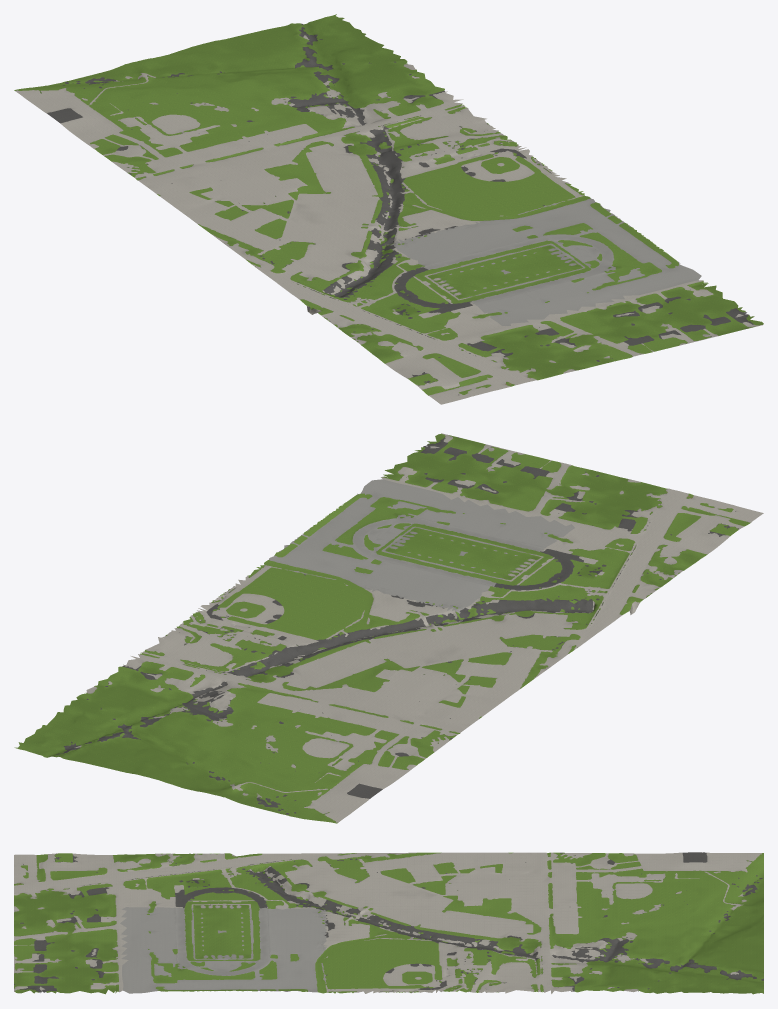
Rendered from wmhs-v3-partA1-terrain-west.glb.
3 renders of one model, top to bottom at view 1: azimuth 30°, elevation 25°; view 2: azimuth 150°, elevation 25°; view 3: azimuth 270°, elevation 25°, orthographic. The views are drawn at different scales.
Parts seen in each view (by area): view 1: Terrain_LiDAR05_West; view 2: Terrain_LiDAR05_West; view 3: Terrain_LiDAR05_West.
Boxes of the visible parts, bbox=[...] form: Terrain_LiDAR05_West: bbox=[14, 14, 763, 404]; Terrain_LiDAR05_West: bbox=[14, 433, 763, 823]; Terrain_LiDAR05_West: bbox=[14, 852, 763, 994].
Bounding box in the file's own units: 285 × 6.19 × 642.
5 materials, 5 textured.
